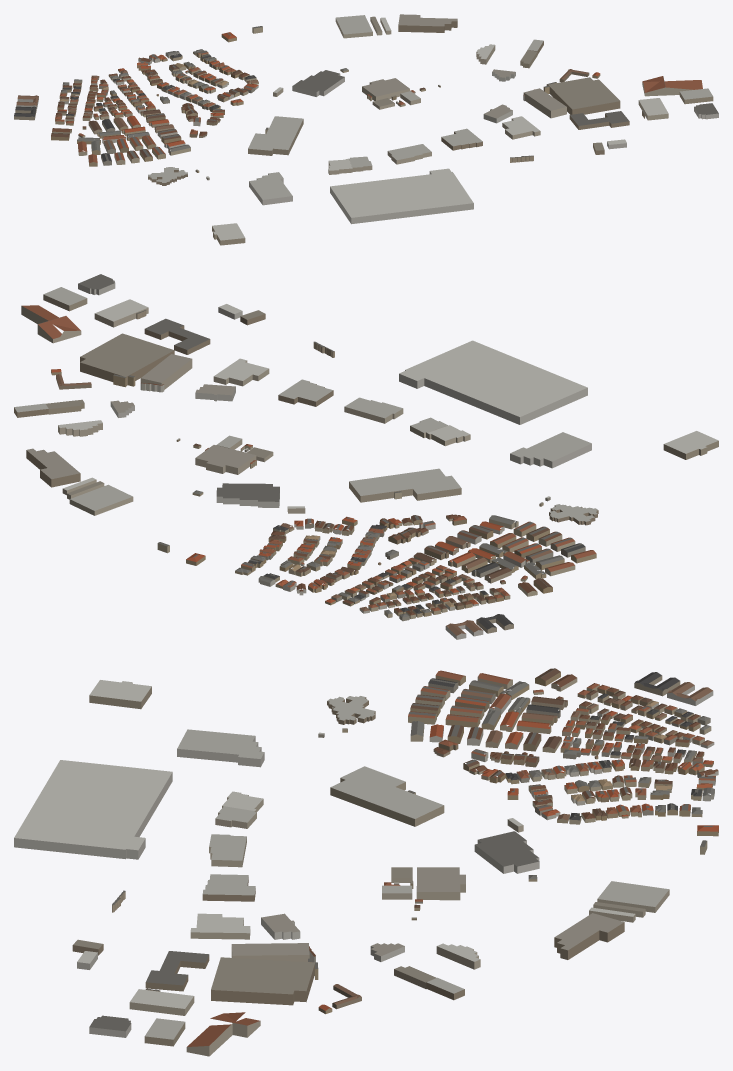
The picture shows the model from 3 angles, top to bottom: view 1: azimuth 30°, elevation 25°; view 2: azimuth 150°, elevation 25°; view 3: azimuth 270°, elevation 25°; orthographic projection. The views are drawn at different scales.
Visible parts, largest first — view 1: buildings_r3_c5_lod1; view 2: buildings_r3_c5_lod1; view 3: buildings_r3_c5_lod1.
Part boxes in pixels (x1,y1,x2,y2): buildings_r3_c5_lod1: (14, 14, 718, 245); buildings_r3_c5_lod1: (14, 274, 718, 639); buildings_r3_c5_lod1: (14, 668, 718, 1056).
Size of the model in its own units: 1179 by 41.91 by 893.
